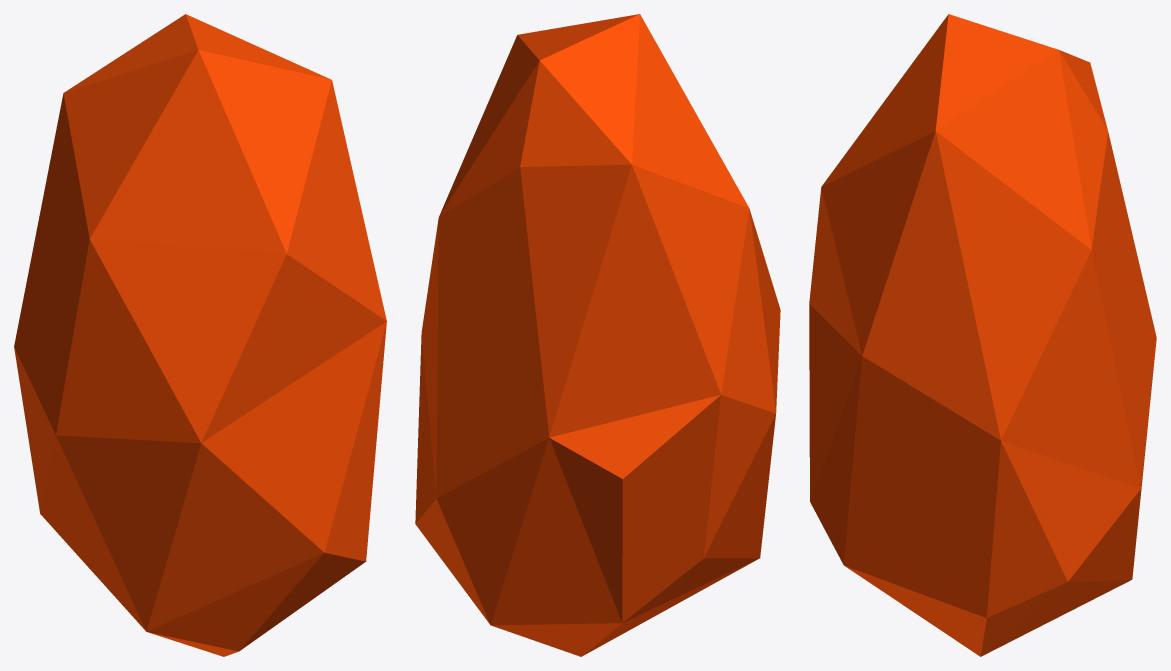
File: Crystal_041.fbx
The picture shows the model from 3 angles, left to right: view 1: azimuth 30°, elevation 25°; view 2: azimuth 150°, elevation 25°; view 3: azimuth 270°, elevation 25°; orthographic projection. The views are drawn at different scales.
Visible parts, largest first — view 1: Crystal.041; view 2: Crystal.041; view 3: Crystal.041.
Boxes of the visible parts, x1=… form: Crystal.041: x1=14, y1=14, x2=386, y2=656; Crystal.041: x1=415, y1=14, x2=780, y2=656; Crystal.041: x1=809, y1=14, x2=1156, y2=656.
Bounding box in the file's own units: 176 × 325 × 164.
